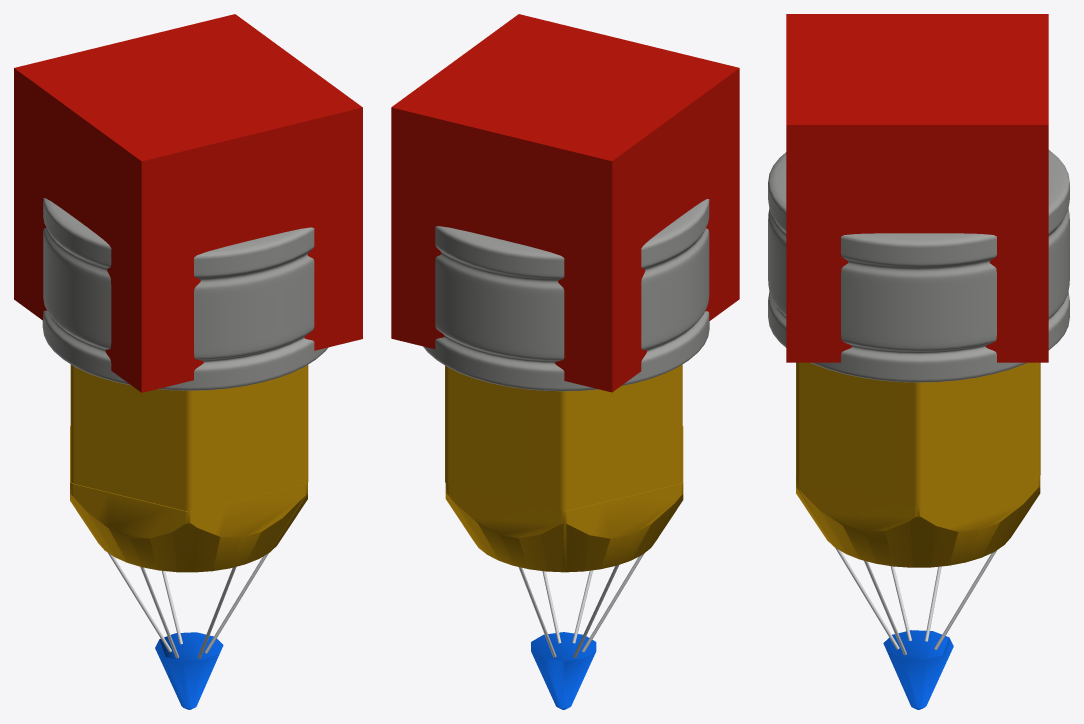
The model's file is globo.glb.
The picture shows the model from 3 angles, left to right: view 1: azimuth 30°, elevation 25°; view 2: azimuth 150°, elevation 25°; view 3: azimuth 270°, elevation 25°; orthographic projection. The views are drawn at different scales.
Parts seen in each view (by area): view 1: Cube, fix; view 2: Cube, fix; view 3: fix, Cube.
Boxes of the visible parts, x1=… form: Cube: x1=14, y1=14, x2=362, y2=392; fix: x1=42, y1=198, x2=328, y2=709; Cube: x1=391, y1=14, x2=739, y2=392; fix: x1=423, y1=199, x2=709, y2=709; fix: x1=768, y1=150, x2=1069, y2=709; Cube: x1=786, y1=14, x2=1048, y2=362.
Size of the model in its own units: 1.35 by 3.17 by 1.35.
